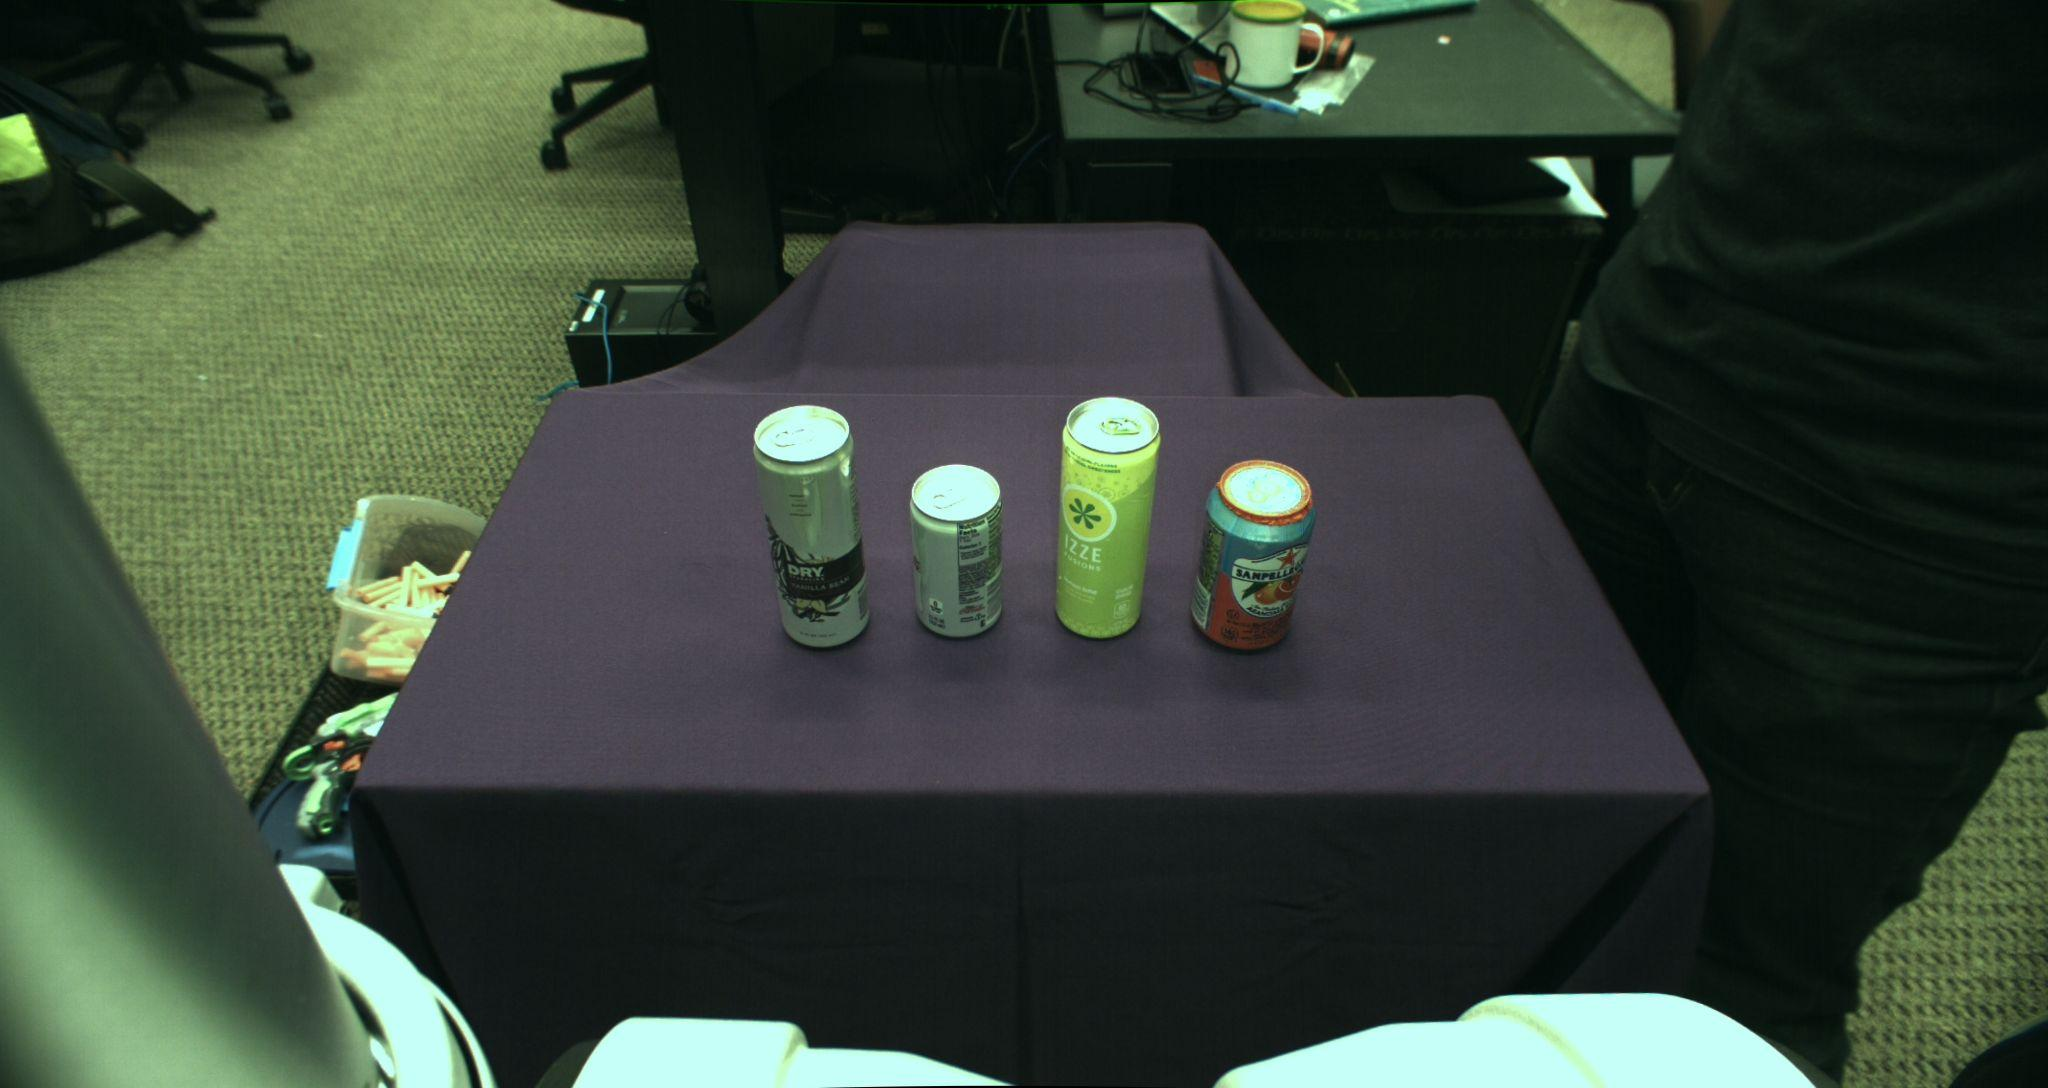can_diet_coke_small: (908, 463, 1005, 638)
can_dry_sparkling_vanilla_bean: (752, 402, 871, 648)
can_izze_fusions_lemon_lime: (1052, 398, 1158, 640)
can_sanpellegrino_blood_orange: (1191, 459, 1317, 650)
